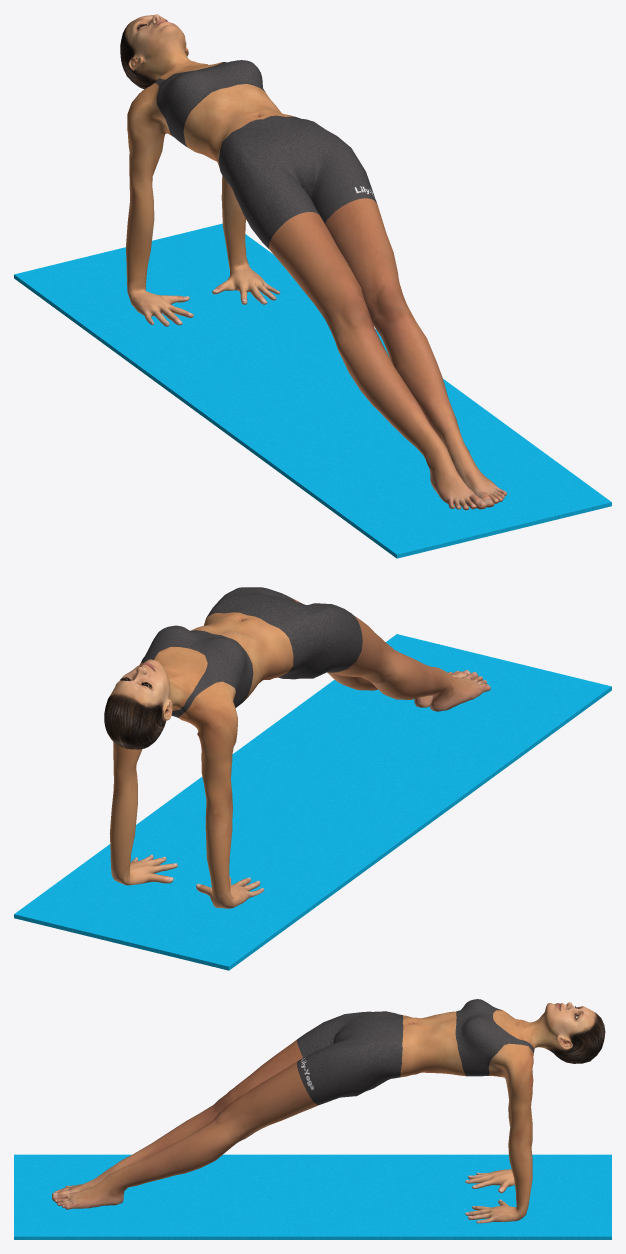
File: purvottanasana.glb
3 renders of one model, top to bottom at view 1: azimuth 30°, elevation 25°; view 2: azimuth 150°, elevation 25°; view 3: azimuth 270°, elevation 25°, orthographic. The views are drawn at different scales.
Visible parts, largest first — view 1: Mat-one-piece_jpg-material, Lily_Texture01_06_2016_jpg-material; view 2: Mat-one-piece_jpg-material, Lily_Texture01_06_2016_jpg-material; view 3: Mat-one-piece_jpg-material, Lily_Texture01_06_2016_jpg-material.
Boxes of the visible parts, x1,y1,x2,y2 form: Mat-one-piece_jpg-material: (14, 223, 611, 558); Lily_Texture01_06_2016_jpg-material: (120, 14, 506, 510); Mat-one-piece_jpg-material: (14, 634, 611, 970); Lily_Texture01_06_2016_jpg-material: (104, 587, 490, 908); Mat-one-piece_jpg-material: (14, 1154, 611, 1239); Lily_Texture01_06_2016_jpg-material: (52, 999, 605, 1223).
Size of the model in its own units: 2 by 2.27 by 6.17.
3 materials, 2 textured.
